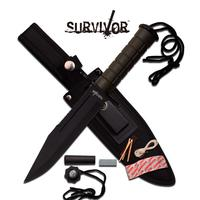knife: (21, 18, 158, 186)
